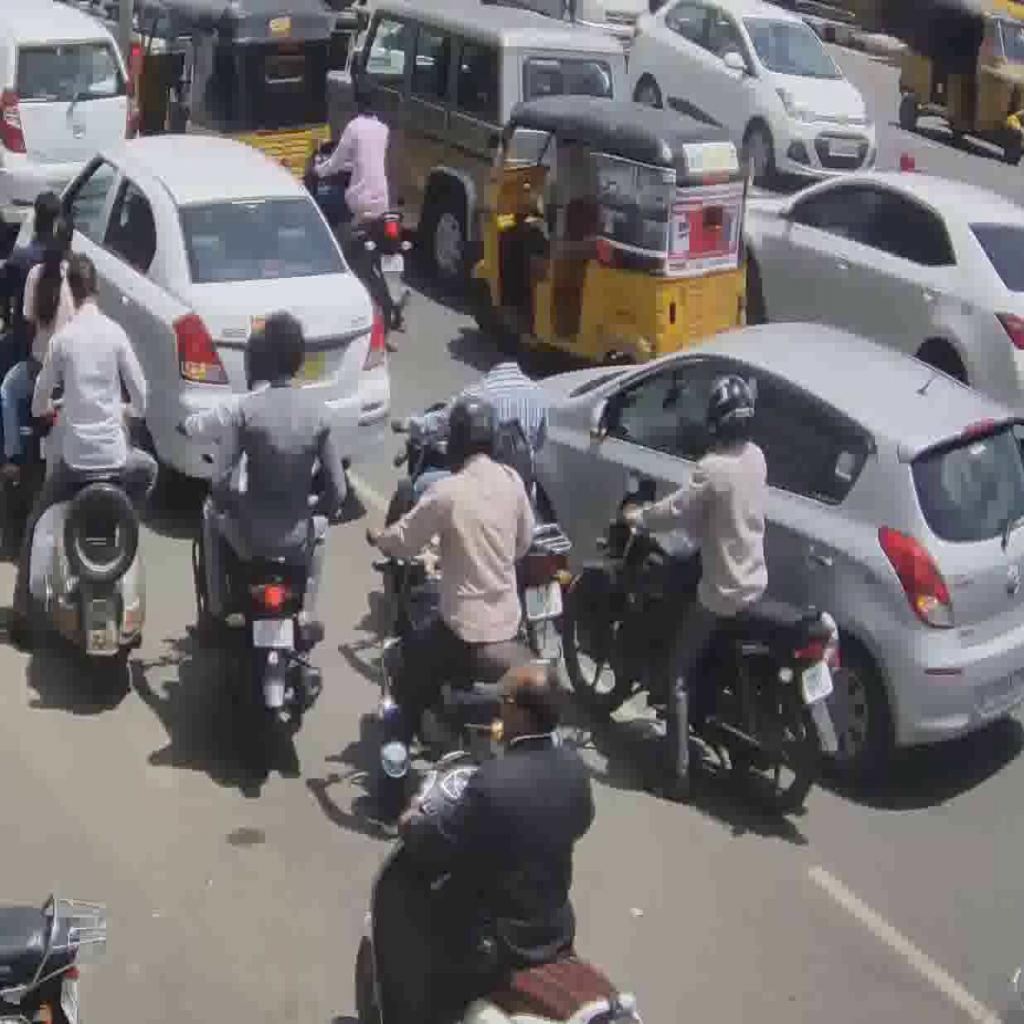helmet: (562, 463, 847, 826), (355, 743, 648, 1024), (200, 466, 330, 757), (304, 142, 416, 343)
